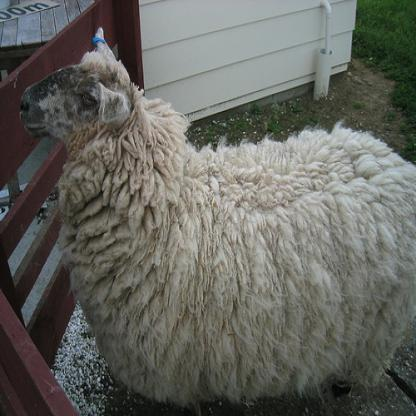sheep: (19, 30, 414, 407)
